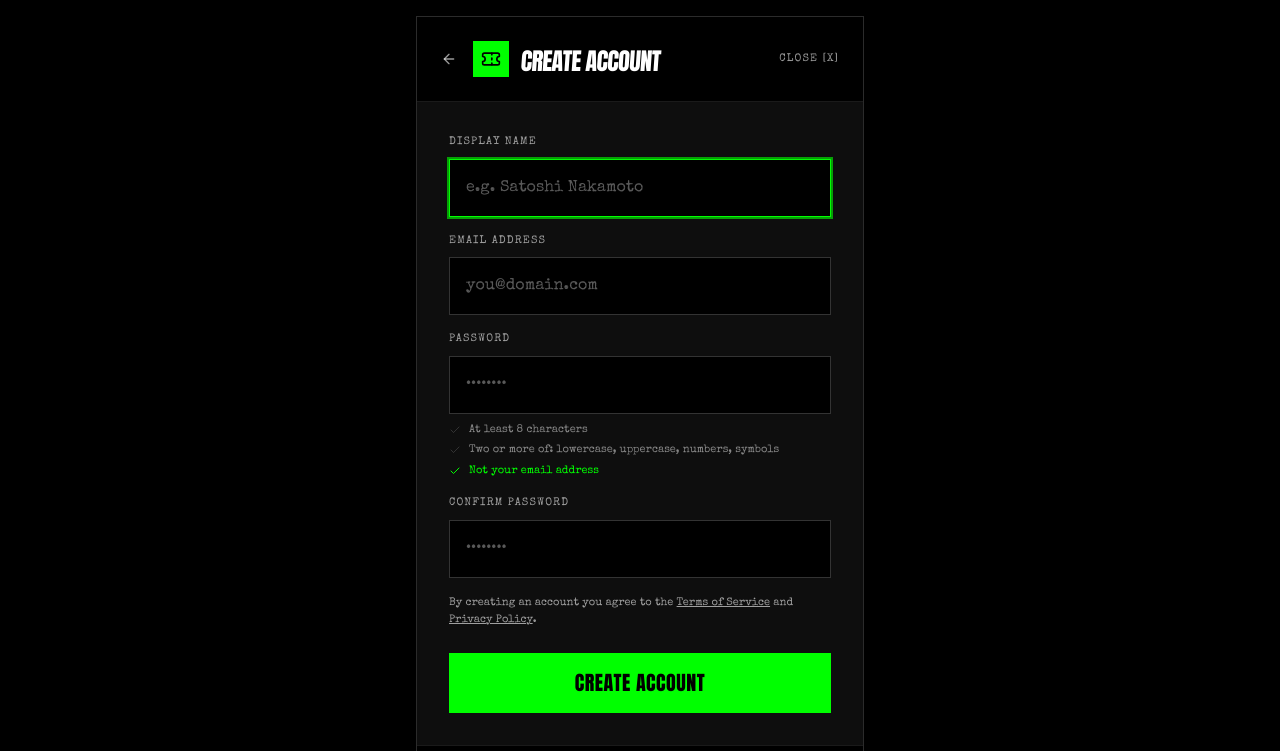
Test: AuthModal: sign up › keeps 'already registered' generic
Step 1. Type "Fan" into the field labelled "Display Name" → [640, 188], box [449,158,831,216]
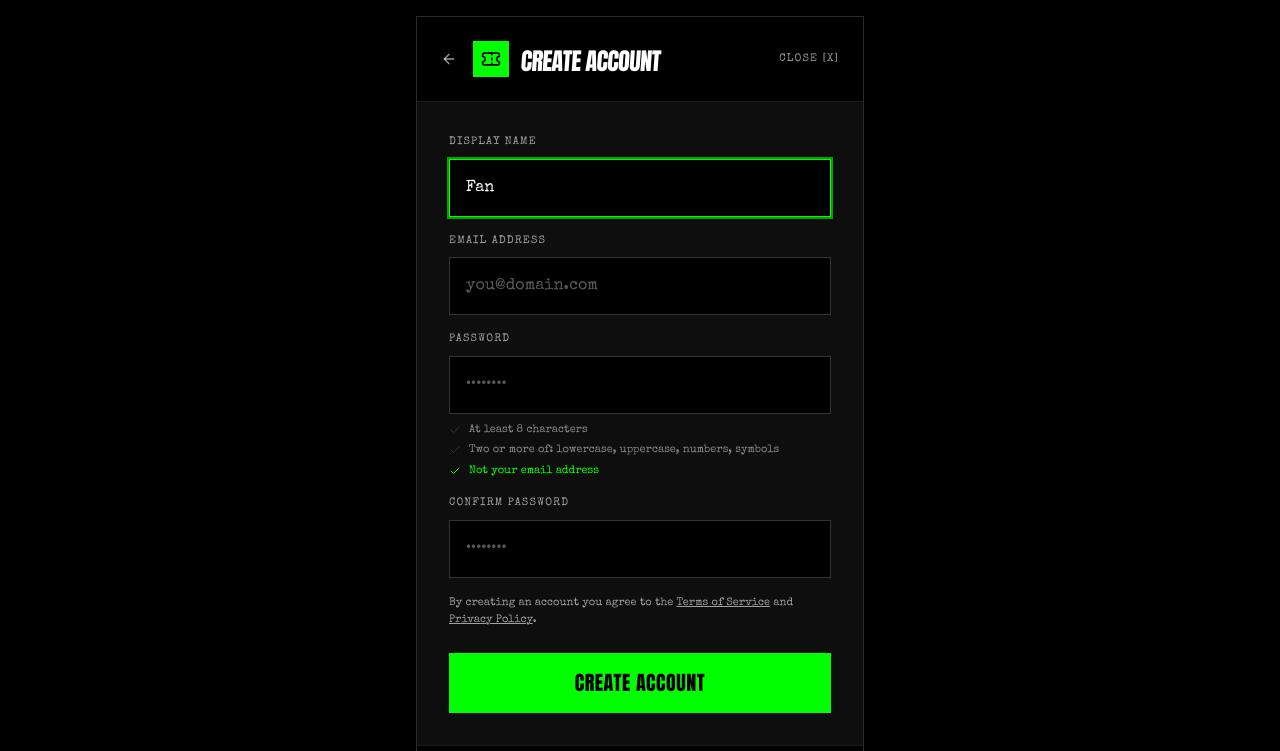
Step 2. Type "fan@example.com" into the field labelled "Email Address" → [640, 286], box [449,257,831,315]
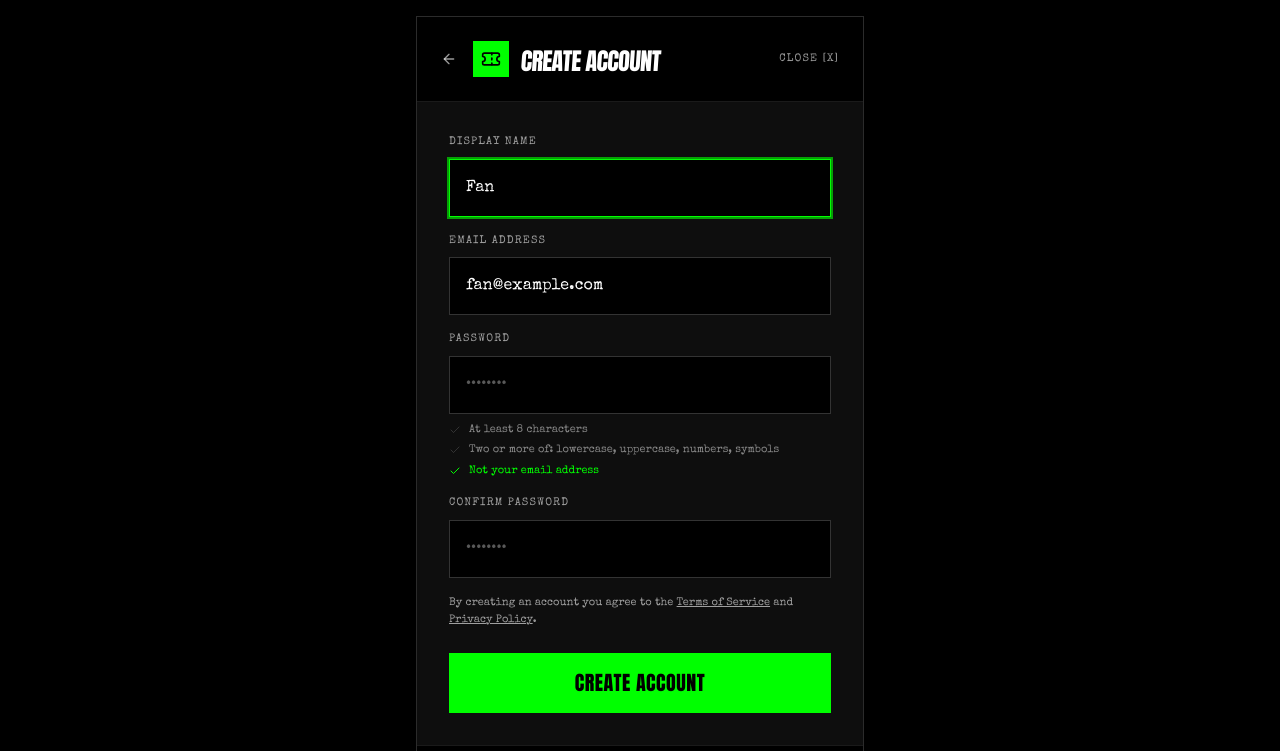
Step 3. Type "Correct-horse-9" into the password field labelled "Password" → [640, 384], box [449,356,831,414]
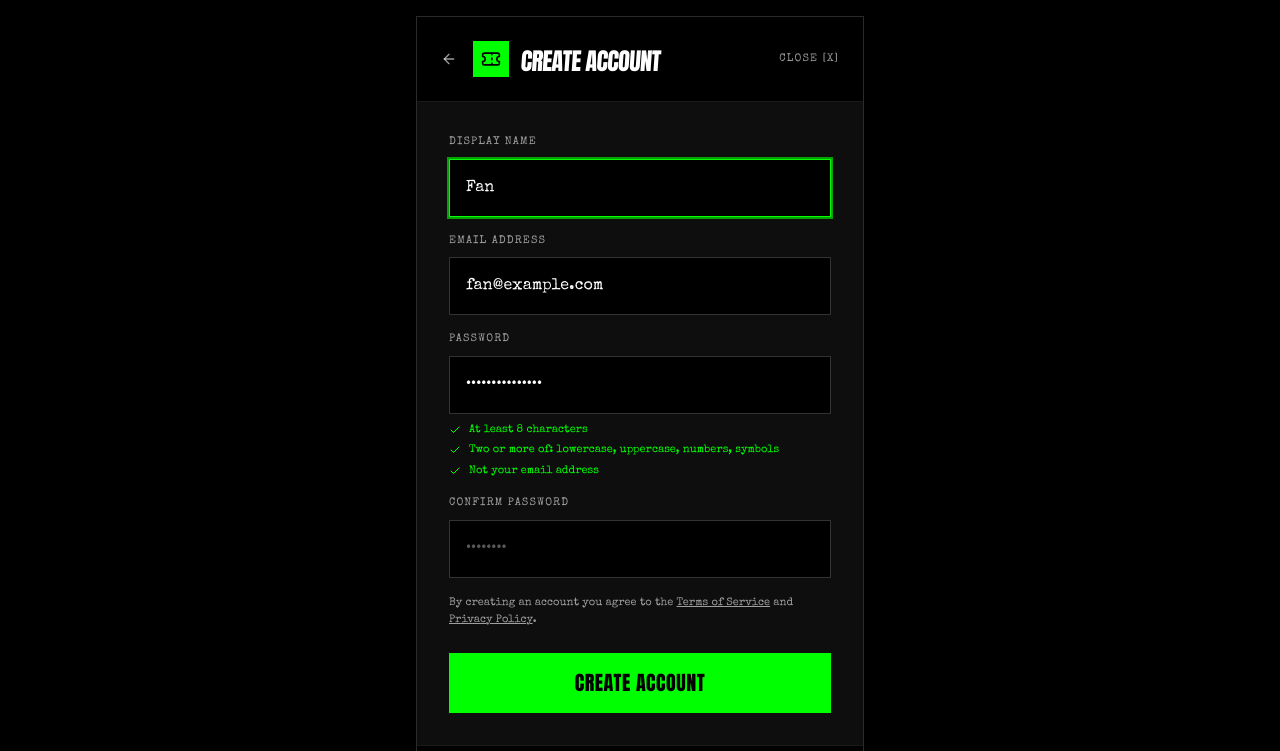
Step 4. Type "Correct-horse-9" into the password field labelled "Confirm Password" → [640, 548], box [449,520,831,578]
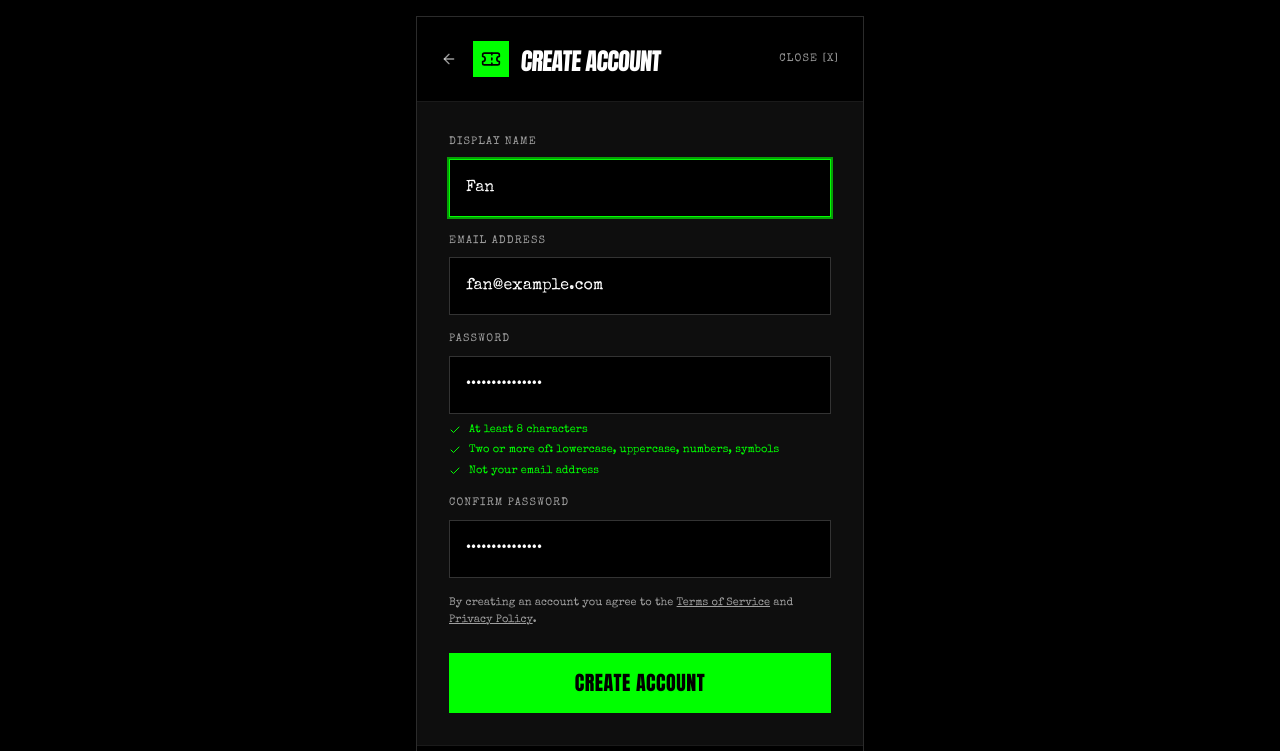
Step 5. Click the button "Create Account" → [640, 683], box [449,653,831,713]
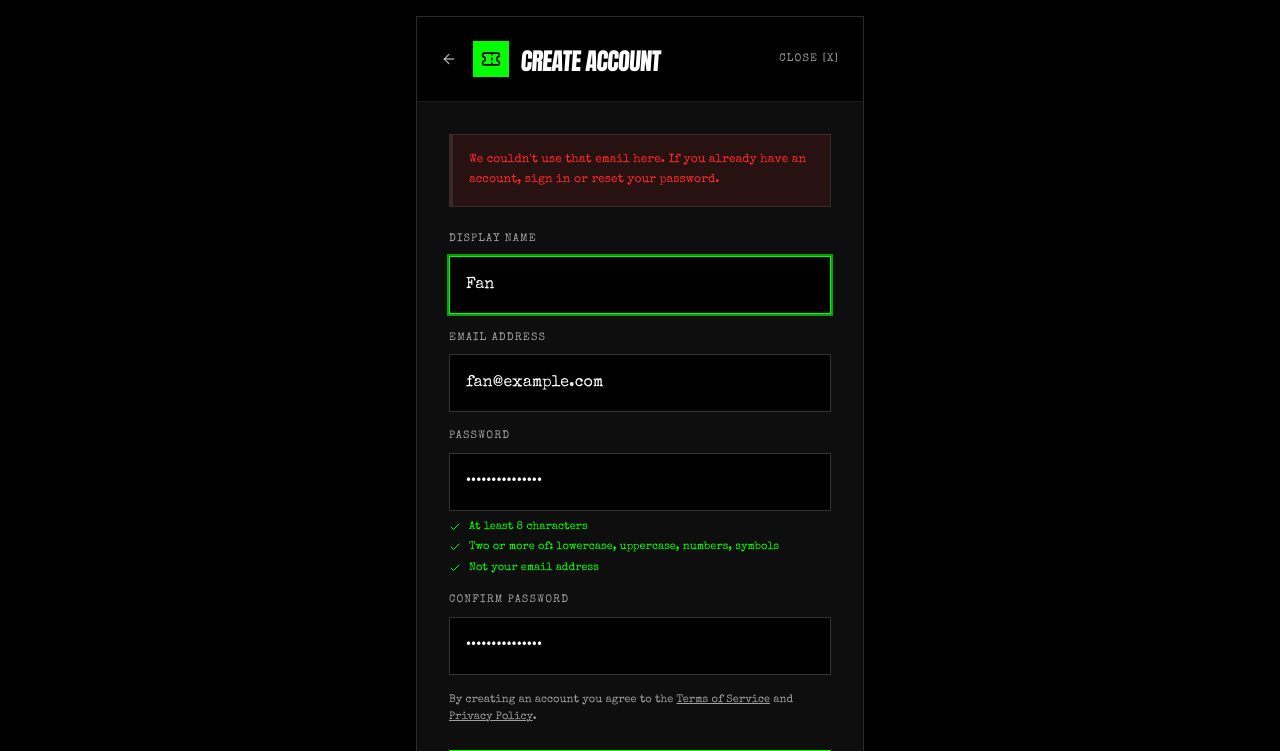
Expected: the message shows "sign in or reset your password", [469,154,806,186]
